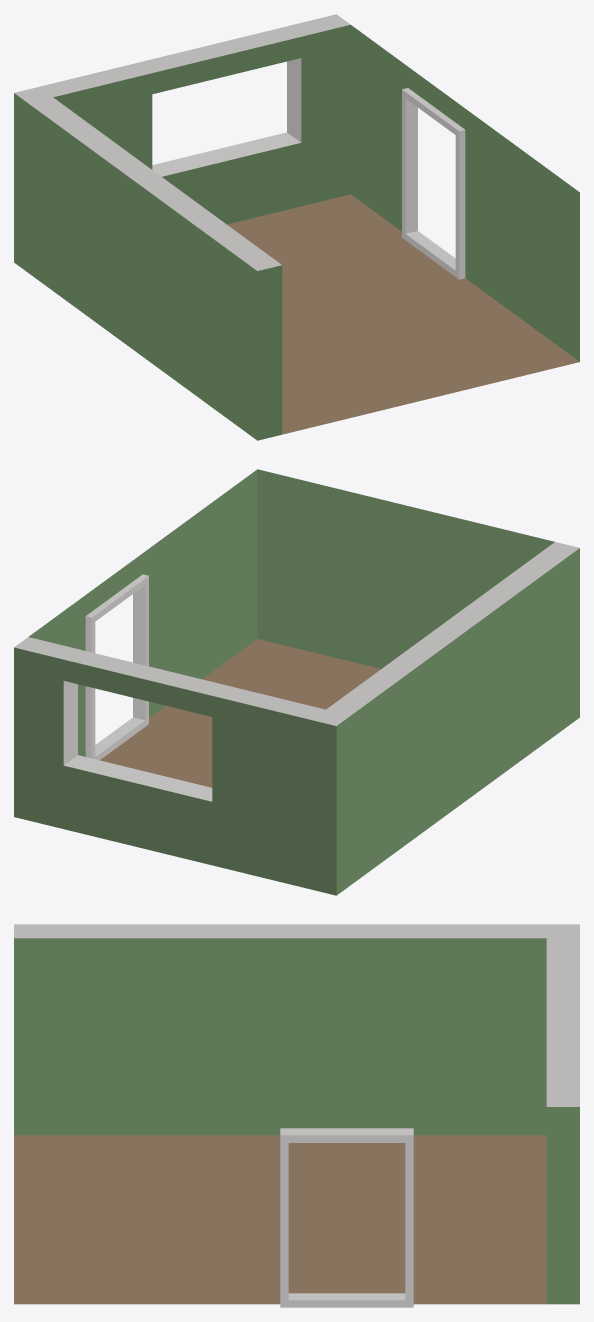
The model's file is bedroom.gltf.
The picture shows the model from 3 angles, top to bottom: view 1: azimuth 30°, elevation 25°; view 2: azimuth 150°, elevation 25°; view 3: azimuth 270°, elevation 25°; orthographic projection. The views are drawn at different scales.
Parts seen in each view (by area): view 1: Bedroom, Doorway; view 2: Bedroom, Doorway; view 3: Bedroom, Doorway.
Part boxes in pixels (<box>): Bedroom: <box>14,14,579,440</box>; Doorway: <box>402,88,465,279</box>; Bedroom: <box>14,469,579,895</box>; Doorway: <box>85,574,148,760</box>; Bedroom: <box>14,924,579,1304</box>; Doorway: <box>280,1128,413,1307</box>.
Bounding box in the file's own units: 3.31 × 1.63 × 4.25.
Materials: 1 (1 with a texture image).
